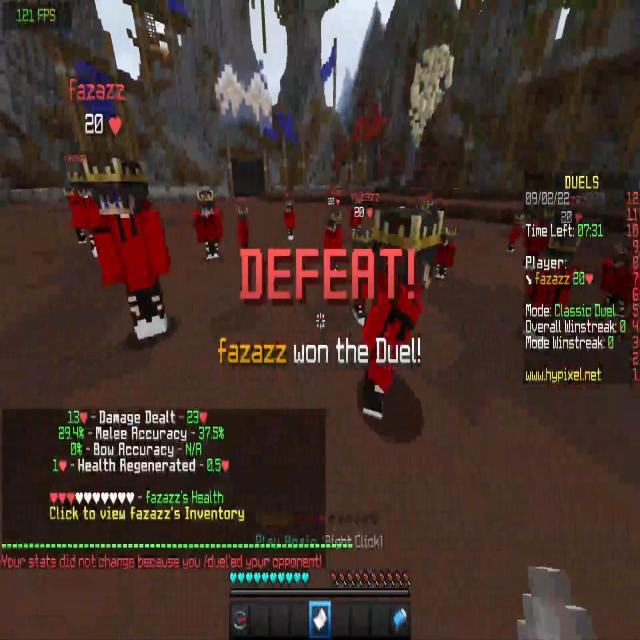Player: (77, 151, 177, 353), (356, 195, 439, 428), (522, 223, 583, 357), (594, 231, 640, 353), (190, 176, 227, 268), (71, 165, 106, 260), (351, 208, 378, 325), (434, 222, 462, 293), (319, 202, 345, 278), (234, 200, 255, 262), (277, 191, 298, 251), (505, 198, 523, 258), (63, 178, 78, 242), (349, 199, 361, 240)
